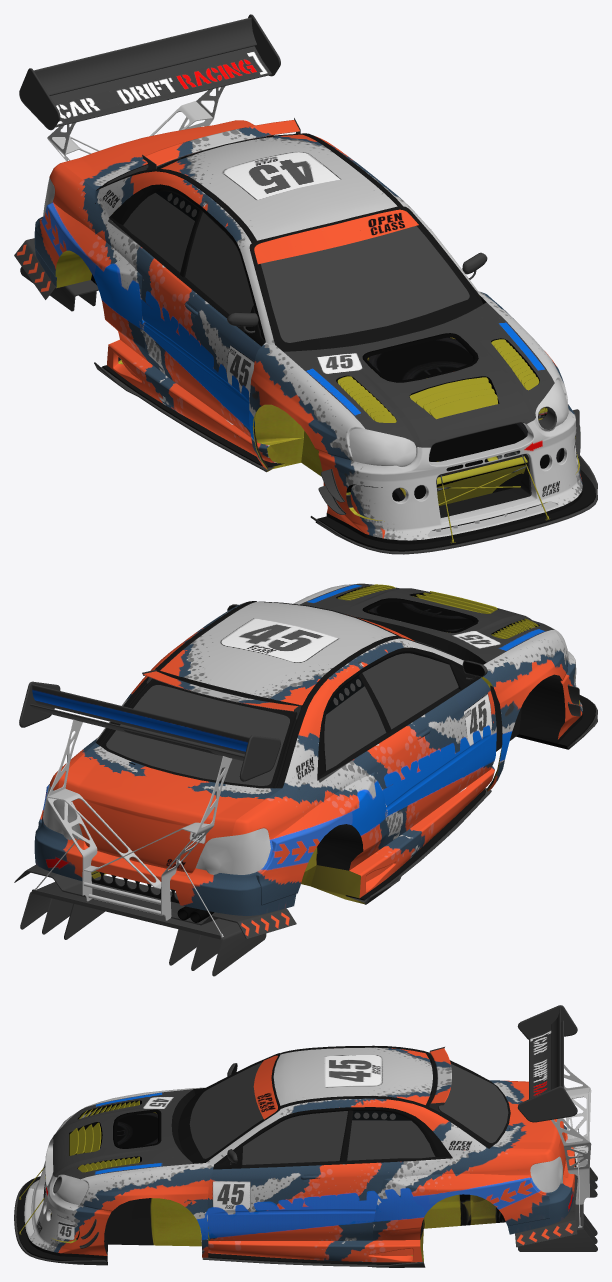
The model's file is Subha car.fbx.
The picture shows the model from 3 angles, top to bottom: view 1: azimuth 30°, elevation 25°; view 2: azimuth 150°, elevation 25°; view 3: azimuth 270°, elevation 25°; orthographic projection. The views are drawn at different scales.
Parts seen in each view (by area): view 1: Car_body, Lights; view 2: Car_body, Lights; view 3: Car_body, Lights.
Boxes of the visible parts, x1=… form: Car_body: x1=14, y1=14, x2=597, y2=554; Lights: x1=43, y1=177, x2=568, y2=466; Car_body: x1=14, y1=583, x2=597, y2=976; Lights: x1=43, y1=624, x2=568, y2=874; Car_body: x1=14, y1=1005, x2=597, y2=1267; Lights: x1=54, y1=1112, x2=562, y2=1205.
Size of the model in its own units: 229 by 181 by 553.
